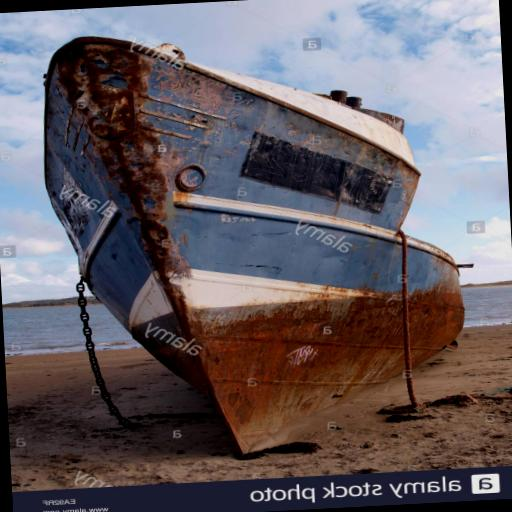segmentation: (188, 296, 464, 454), (49, 45, 189, 337), (190, 289, 461, 335)
